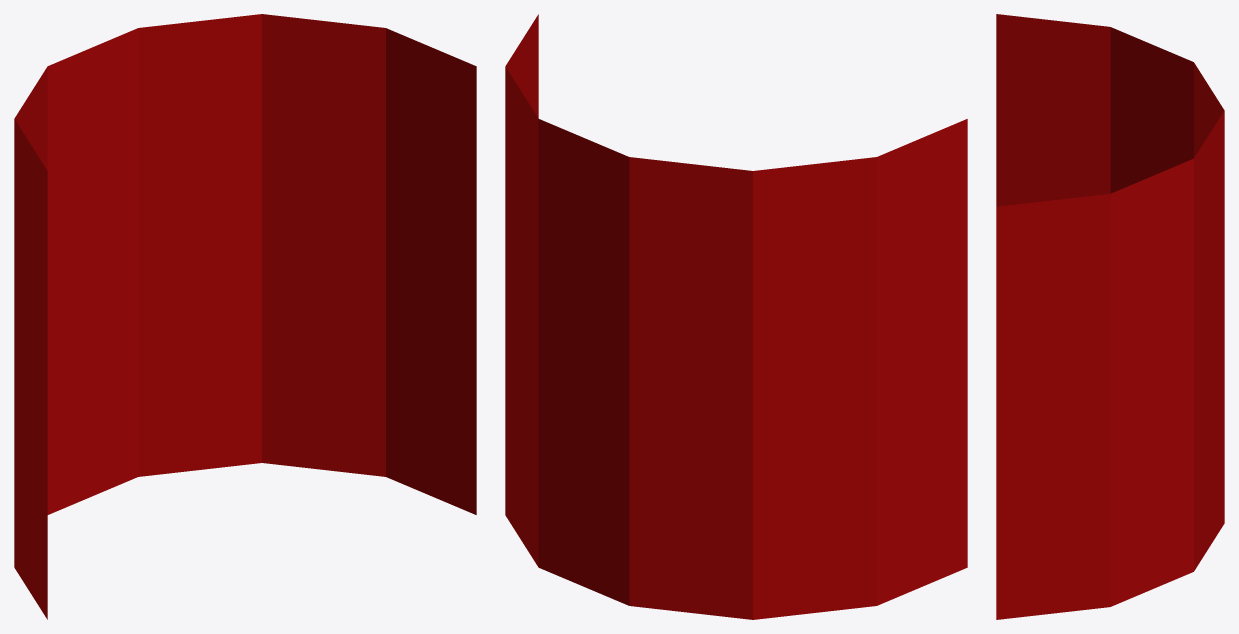
Rendered from c_t_pipe.fbx.
3 renders of one model, left to right at view 1: azimuth 30°, elevation 25°; view 2: azimuth 150°, elevation 25°; view 3: azimuth 270°, elevation 25°, orthographic. The views are drawn at different scales.
Visible parts, largest first — view 1: coll_tunnel_pipe; view 2: coll_tunnel_pipe; view 3: coll_tunnel_pipe.
Boxes of the visible parts, x1,y1,x2,y2 form: coll_tunnel_pipe: (14, 14, 476, 619); coll_tunnel_pipe: (505, 14, 967, 619); coll_tunnel_pipe: (996, 14, 1224, 619).
Bounding box in the file's own units: 240 × 240 × 120.
